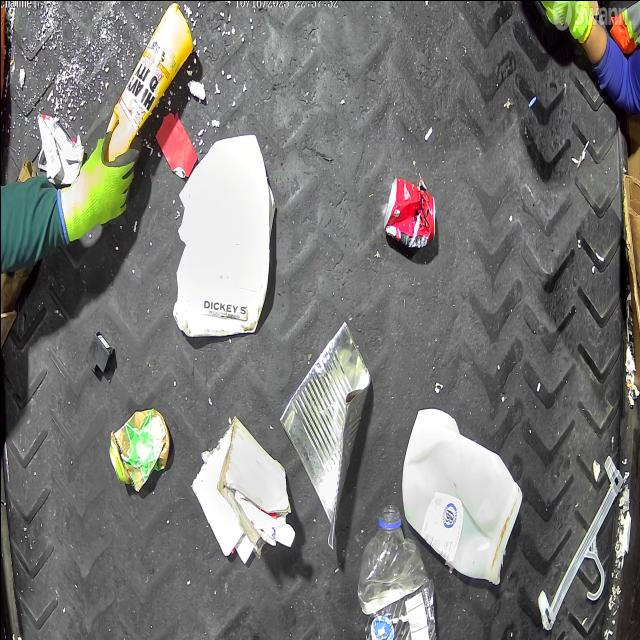can: (382, 177, 435, 249)
milk_jug: (400, 408, 522, 586)
non_white_jug: (104, 2, 192, 160)
plastic_bottle: (356, 504, 436, 640)
